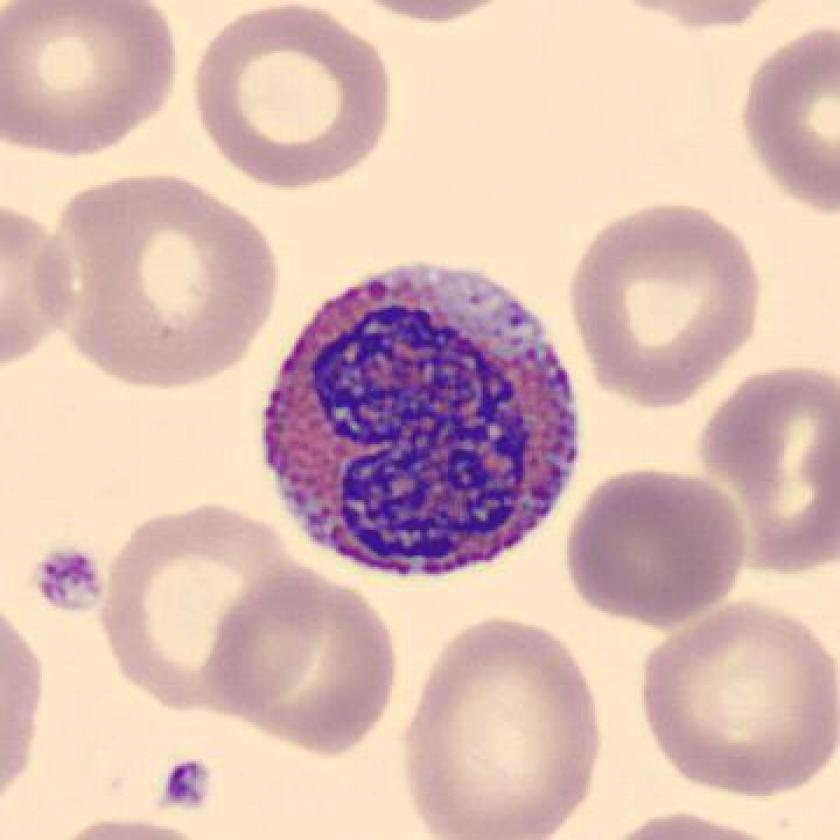eosinophil: (239, 253, 591, 591)
